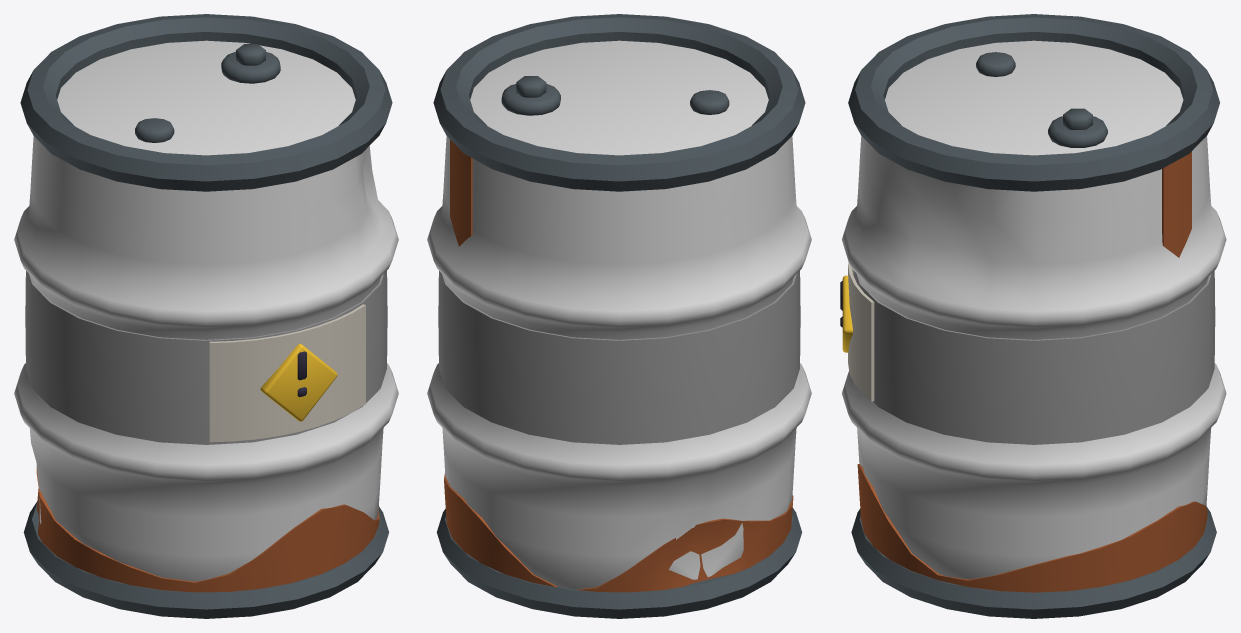
File: oil_drum.glb
3 views of the same model, side by side, from view 1: azimuth 30°, elevation 25°; view 2: azimuth 150°, elevation 25°; view 3: azimuth 270°, elevation 25° (orthographic).
Visible parts, largest first — view 1: oil_drum; view 2: oil_drum; view 3: oil_drum.
Part boxes in pixels (bbox=[...]): oil_drum: bbox=[14, 14, 398, 618]; oil_drum: bbox=[427, 14, 811, 618]; oil_drum: bbox=[840, 14, 1226, 618].
Bounding box in the file's own units: 0.7032 × 0.936 × 0.7056.
